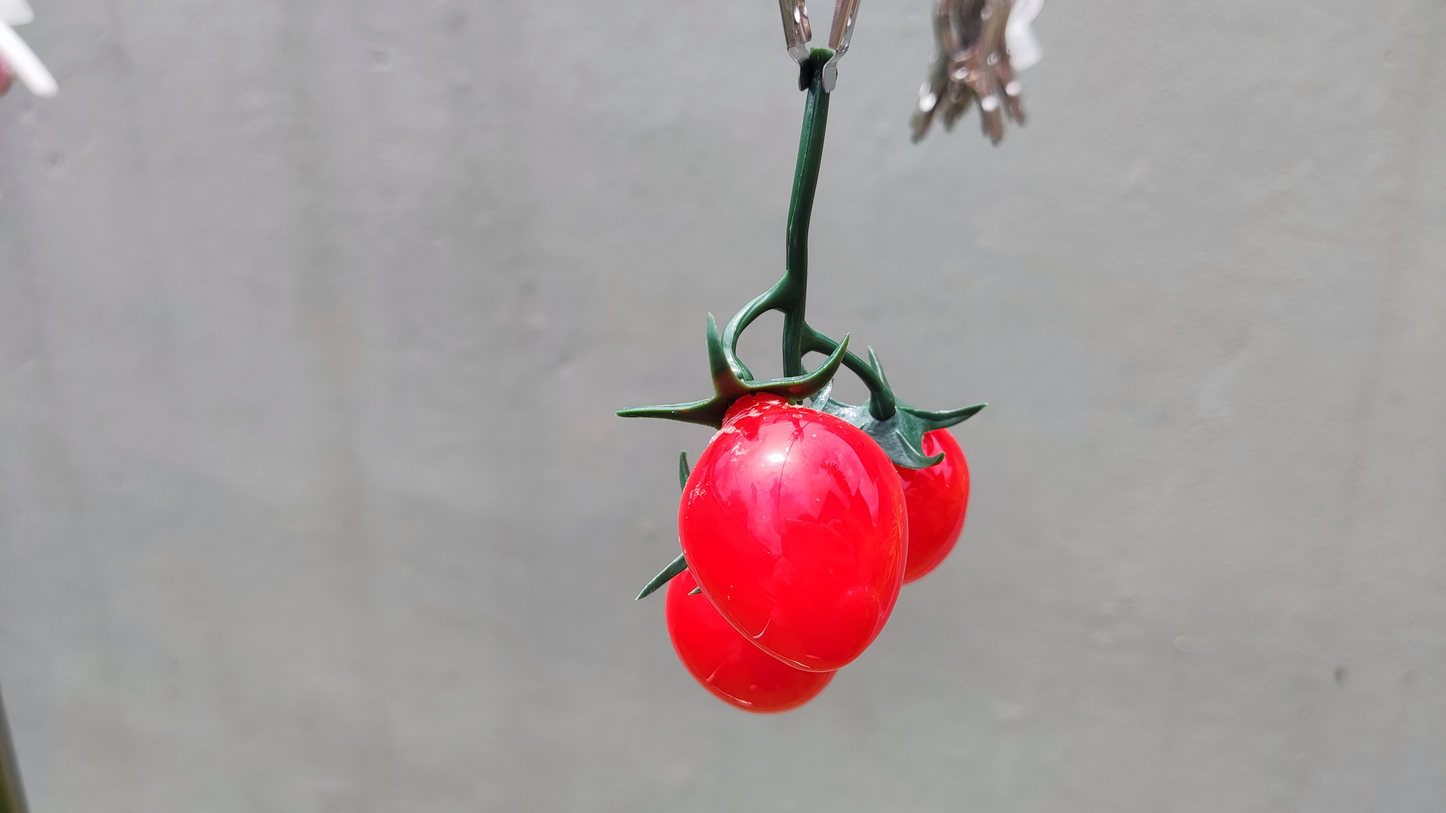peduncle: (786, 96, 830, 270)
strawberry: (679, 393, 908, 672), (666, 569, 835, 713), (896, 427, 971, 584)
